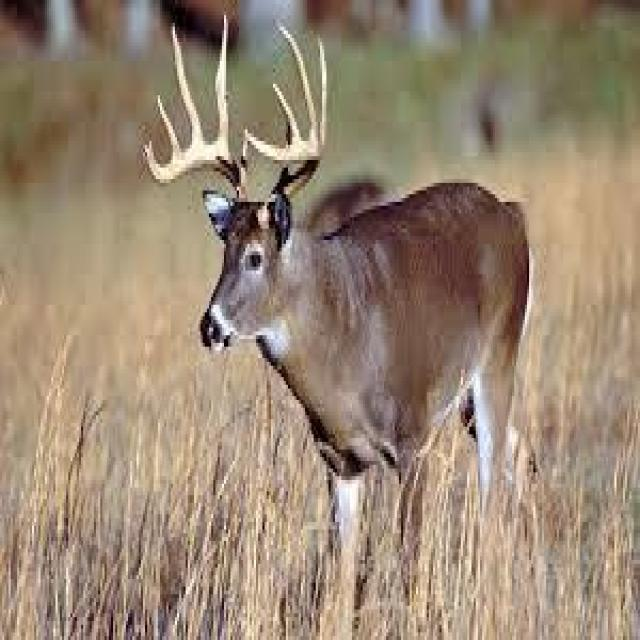Deer: (134, 6, 582, 638)
